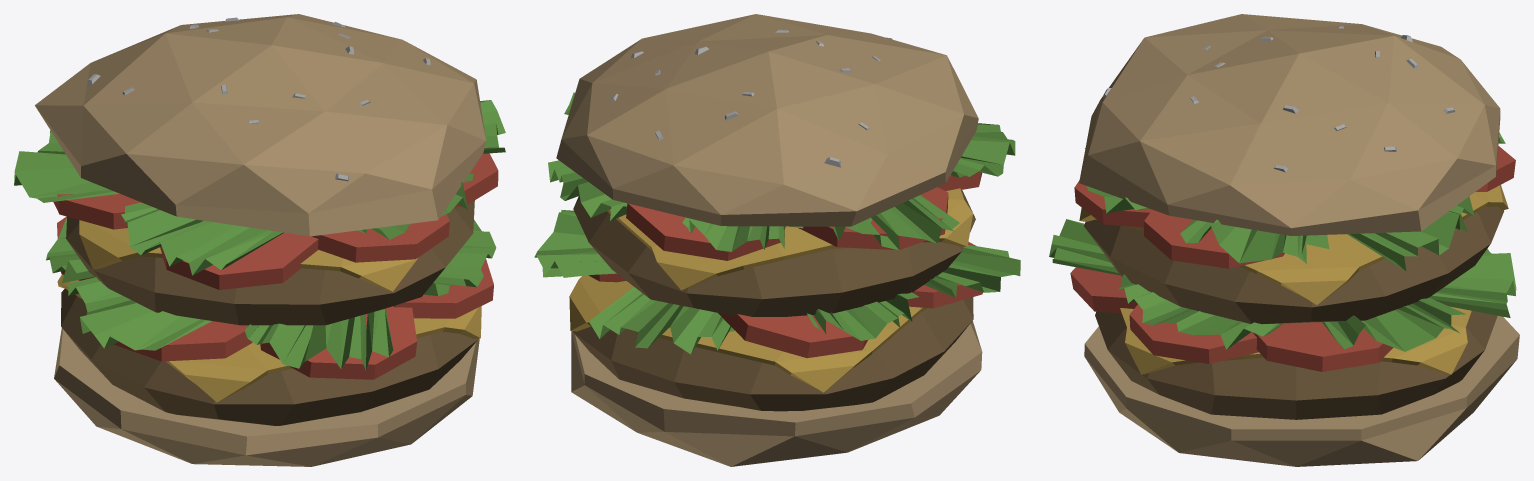
File: burgerlarge-8f546b4baf.glb
3 views of the same model, side by side, from view 1: azimuth 30°, elevation 25°; view 2: azimuth 150°, elevation 25°; view 3: azimuth 270°, elevation 25° (orthographic). The views are drawn at different scales.
Visible parts, largest first — view 1: BurgerLarge.obj; view 2: BurgerLarge.obj; view 3: BurgerLarge.obj.
Boxes of the visible parts, box(x1,y1,x2,y2) form: BurgerLarge.obj: box(14, 14, 505, 466); BurgerLarge.obj: box(534, 14, 1020, 466); BurgerLarge.obj: box(1049, 14, 1519, 466).
Bounding box in the file's own units: 1.72 × 1.45 × 1.67.
